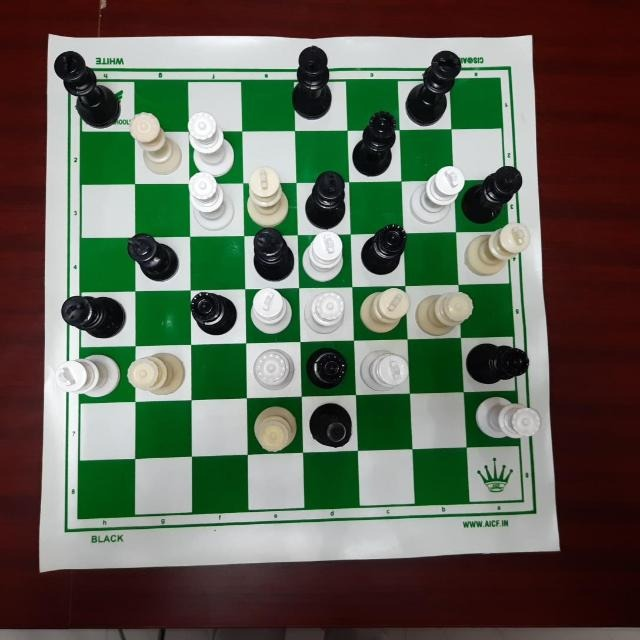black-king: (52, 45, 125, 125), (404, 47, 464, 127), (461, 158, 523, 230), (288, 41, 336, 125), (58, 291, 132, 341), (244, 225, 298, 286), (123, 231, 181, 285), (301, 169, 348, 233)
black-queen: (352, 109, 402, 179), (466, 340, 531, 388), (183, 287, 239, 342), (356, 220, 410, 275), (305, 403, 362, 453), (304, 344, 352, 398)
white-king: (407, 168, 471, 233), (463, 221, 528, 277), (52, 351, 118, 403), (357, 347, 418, 399), (247, 166, 293, 234), (249, 285, 301, 337), (301, 235, 351, 285), (365, 281, 413, 330)
white-queen: (122, 114, 189, 180), (181, 118, 243, 180), (470, 397, 545, 447), (242, 344, 306, 396), (126, 349, 188, 397), (188, 174, 236, 234), (248, 400, 298, 456), (416, 290, 476, 332), (301, 290, 353, 338)
